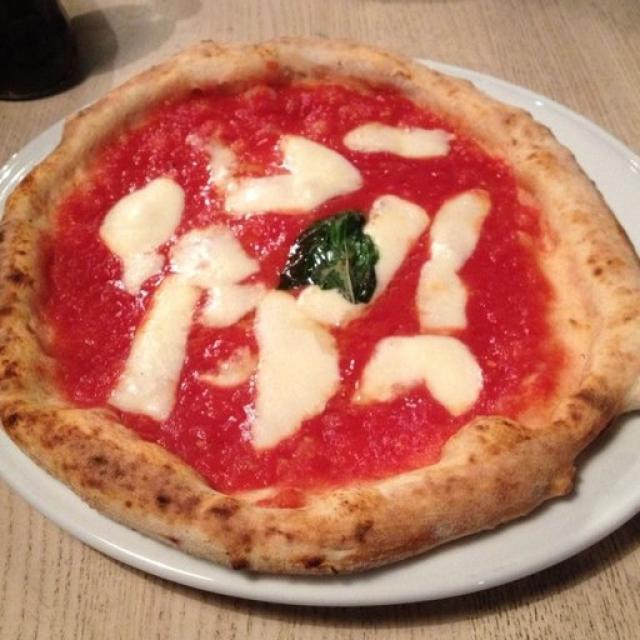Basil: (284, 204, 374, 301)
Cheese: (246, 297, 329, 453), (355, 336, 497, 416), (218, 131, 356, 212), (124, 276, 195, 419), (171, 213, 263, 319), (419, 191, 485, 324), (102, 176, 174, 278), (374, 200, 420, 292), (343, 120, 456, 154), (300, 286, 350, 326)
Pizza: (0, 48, 640, 574)
